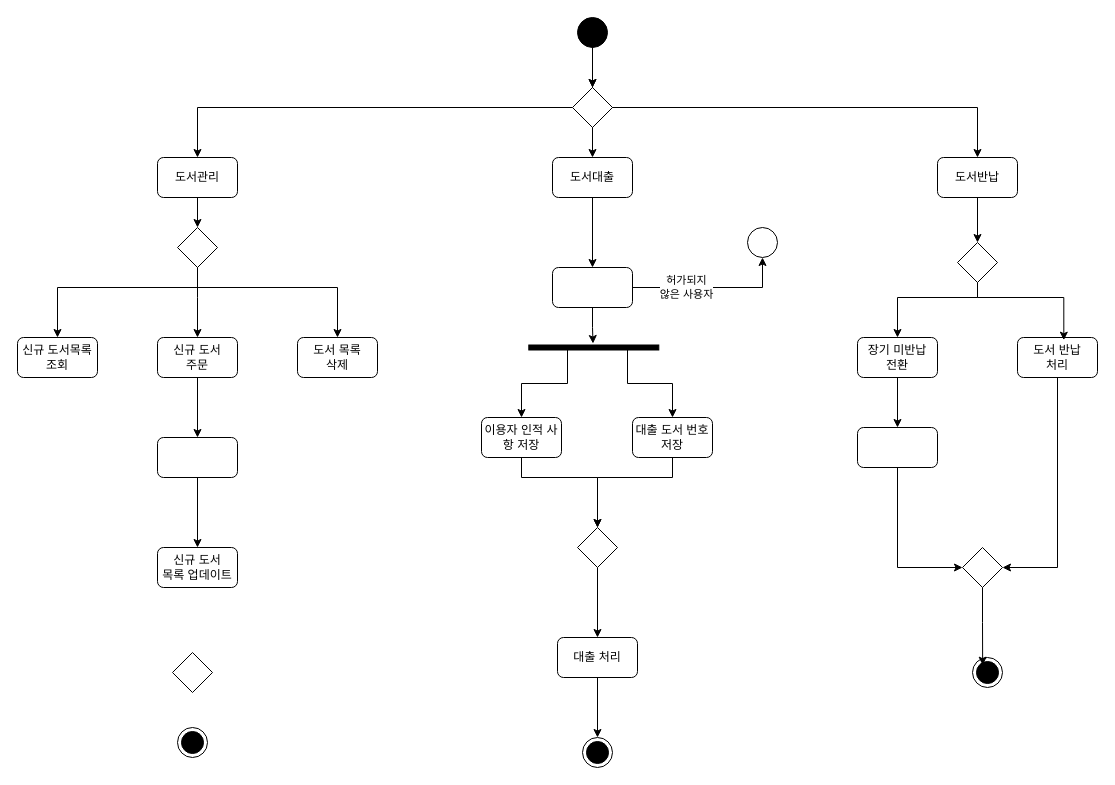
Image size: 1115x785. Some labels were removed from this diagram. Here are the shapes that lost their labels. From the top down, the centre of each, then its label:
At [592,287]: "이용자 확인".
At [197,457]: "신규 도서 수령".
At [897,447]: "독촉 문자 발송".
